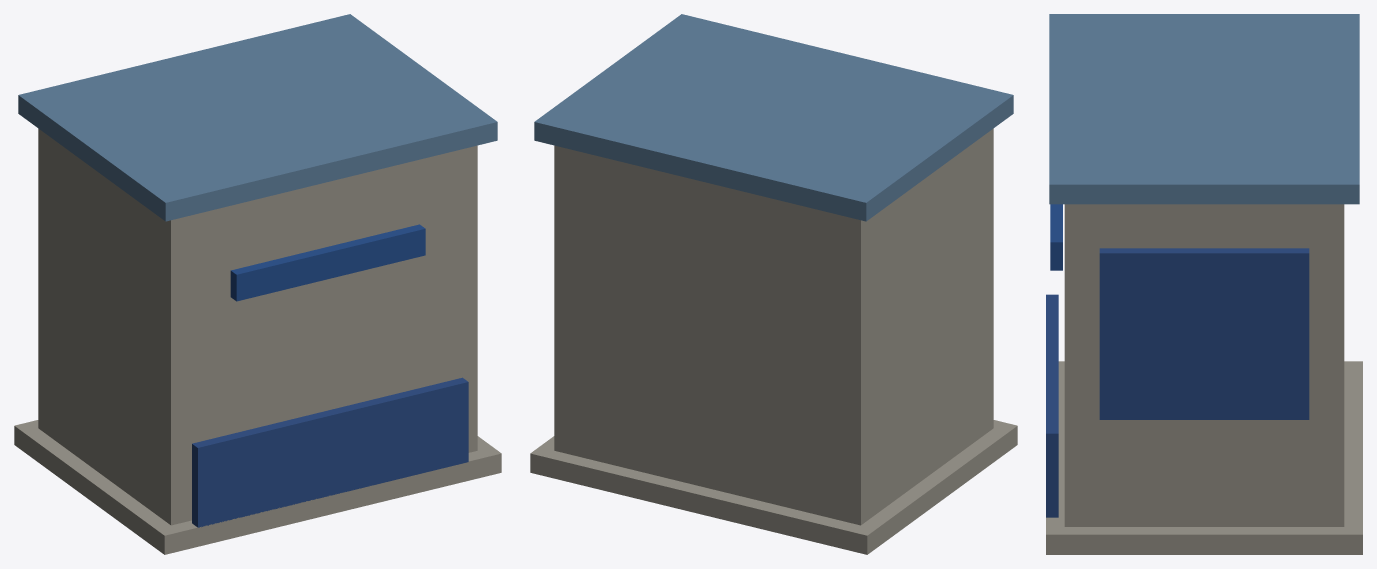
The model's file is bld_commercial_a06_lod1.glb.
The picture shows the model from 3 angles, left to right: view 1: azimuth 30°, elevation 25°; view 2: azimuth 150°, elevation 25°; view 3: azimuth 270°, elevation 25°; orthographic projection. The views are drawn at different scales.
Parts seen in each view (by area): view 1: body; view 2: body; view 3: body.
Part boxes in pixels (box(x1,y1,x2,y2)): body: box(14, 14, 501, 554); body: box(530, 14, 1017, 554); body: box(1046, 14, 1362, 554).
Size of the model in its own units: 6.6 by 6.55 by 5.1.
